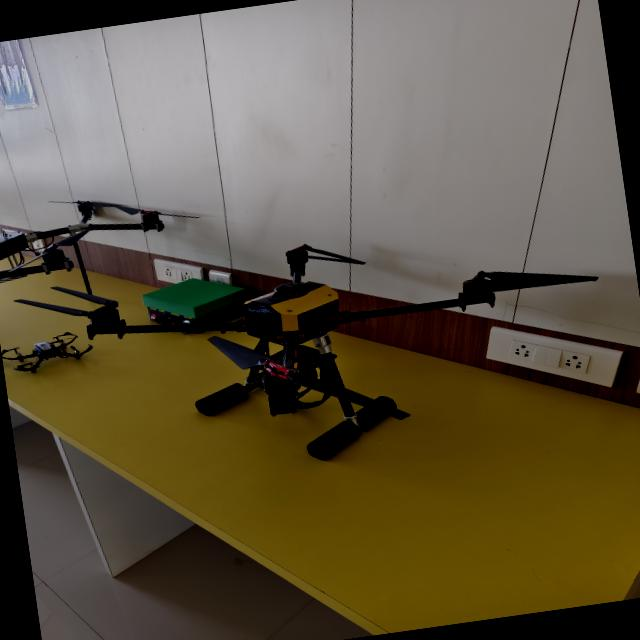quadcopter: (9, 186, 628, 501)
